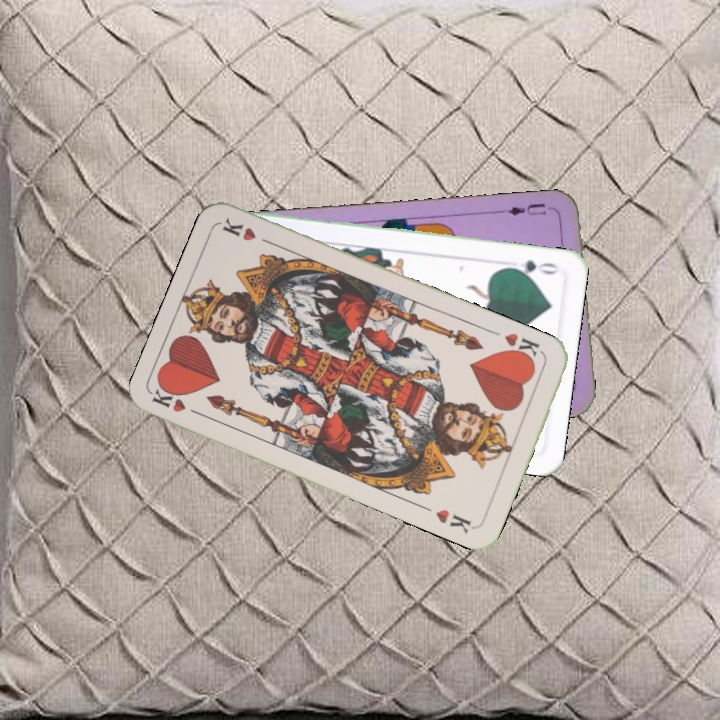EU: (503, 199, 549, 218)
GO: (502, 255, 561, 279)
HK: (149, 382, 207, 420), (500, 329, 547, 365)
